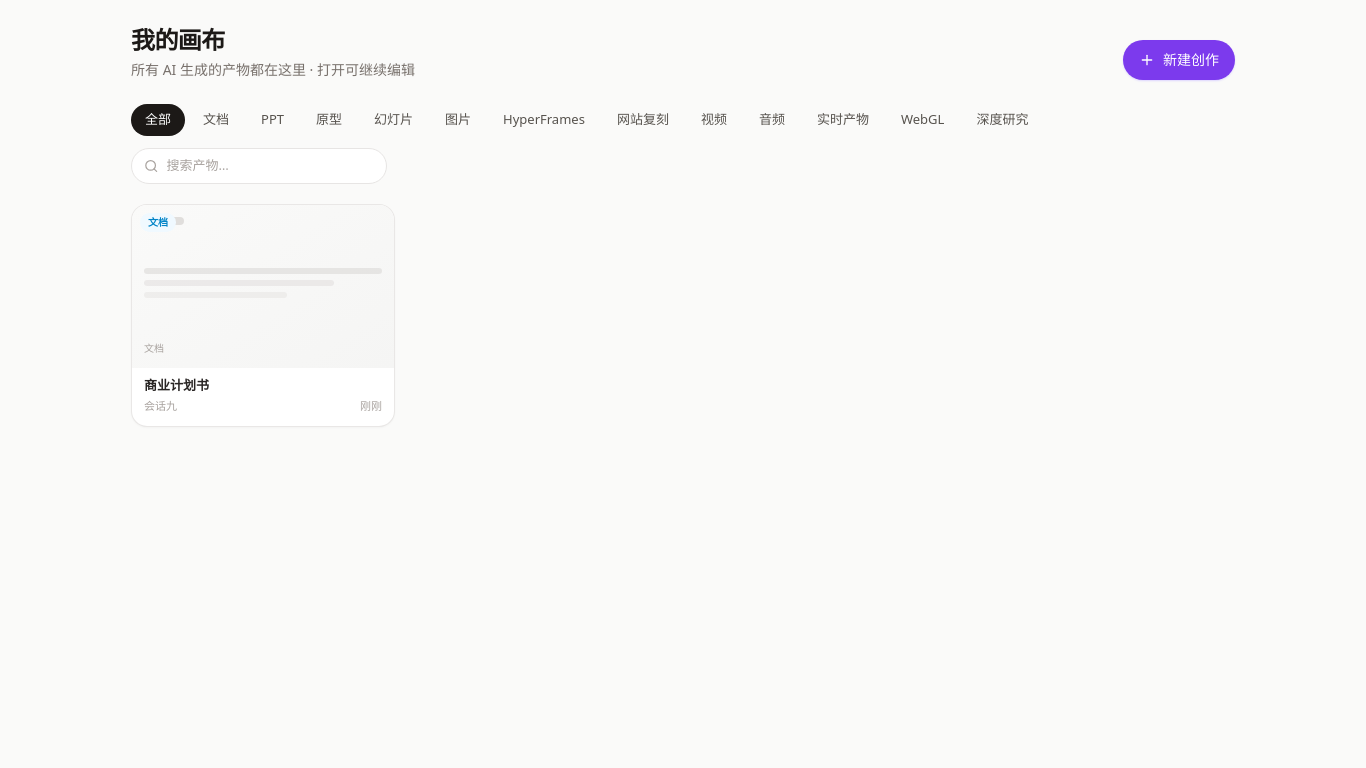
Scenario: 画布产物墙 ArtifactWall › 点击产物卡打开预览，可跳转原会话
Step 1. Click the text "商业计划书" → (176, 385), box top-left (144, 376), bottom-right (209, 394)
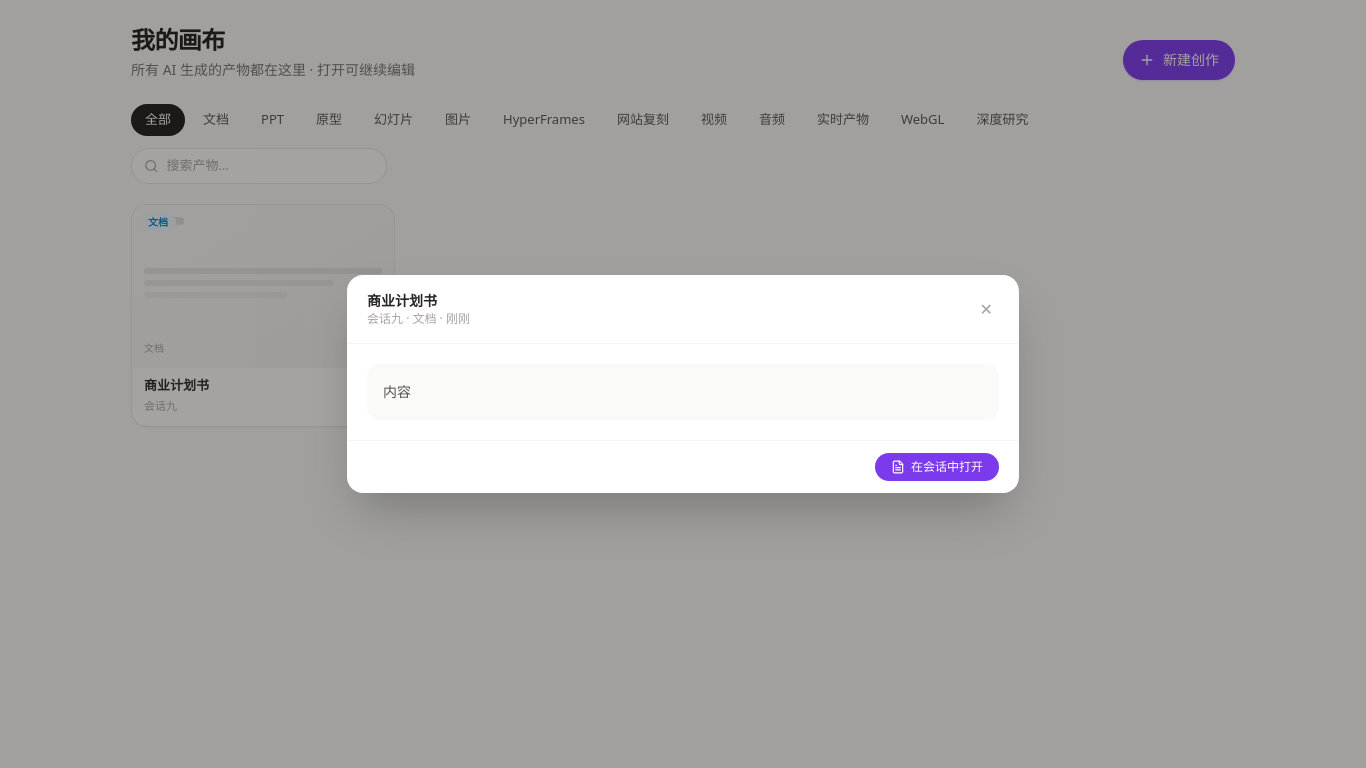
Expected: the button "在会话中打开" is shown, top-left (875, 453), bottom-right (999, 481)
